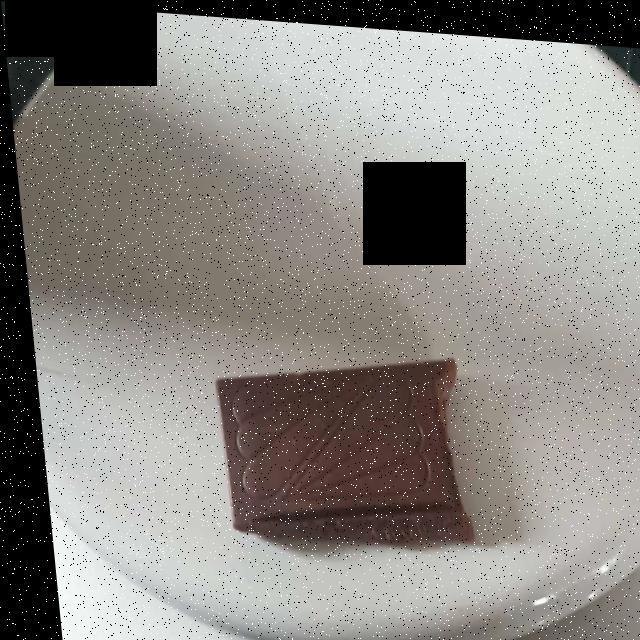chocolate: (210, 358, 456, 535)
